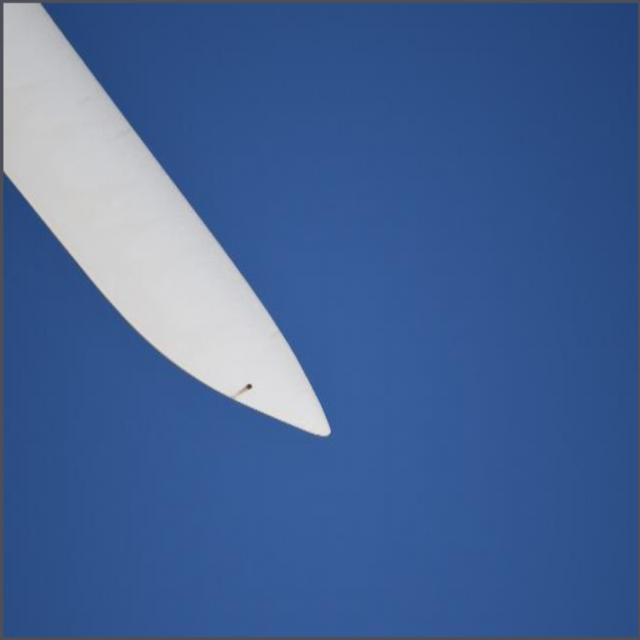Burn Mark: (231, 384, 251, 394)
